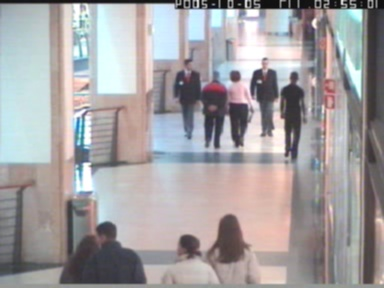person: (199, 212, 260, 284), (79, 220, 145, 284), (158, 234, 218, 284), (249, 57, 279, 137), (280, 71, 306, 160), (173, 57, 201, 139), (225, 70, 255, 146), (200, 70, 226, 148), (59, 234, 97, 284), (309, 16, 316, 53)
